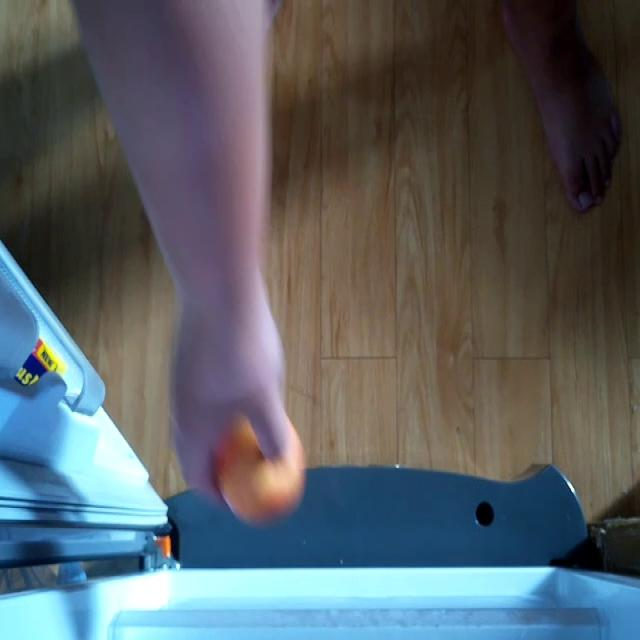apple: (216, 415, 308, 524)
